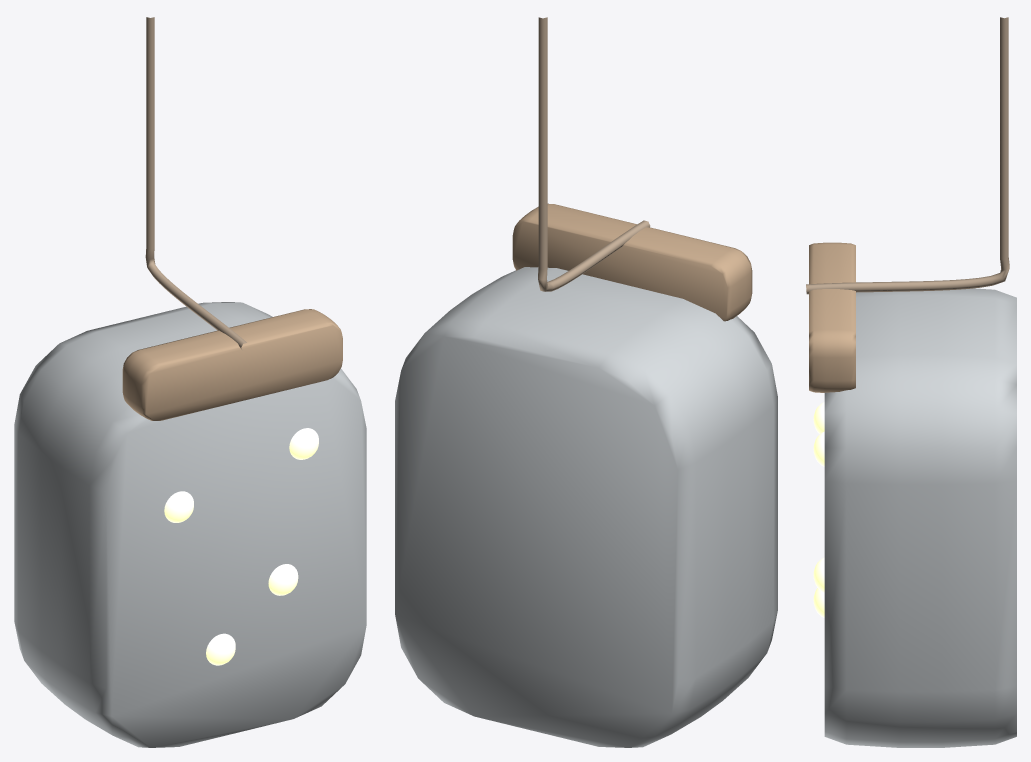
File: decor_3_classic.glb
3 renders of one model, left to right at view 1: azimuth 30°, elevation 25°; view 2: azimuth 150°, elevation 25°; view 3: azimuth 270°, elevation 25°, orthographic. The views are drawn at different scales.
Visible parts, largest first — view 1: decor_3_classic; view 2: decor_3_classic; view 3: decor_3_classic.
Boxes of the visible parts, x1,y1,x2,y2 form: decor_3_classic: (14,17,366,747); decor_3_classic: (395,17,777,747); decor_3_classic: (806,17,1016,747).
Size of the model in its own units: 5.35 by 12.17 by 3.36.
